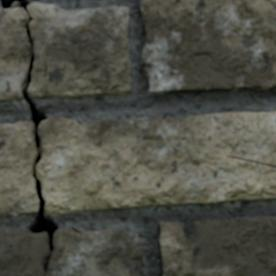brick: (140, 0, 275, 94), (160, 217, 275, 275)
broken_brick: (38, 110, 275, 216), (28, 1, 131, 98), (0, 226, 143, 275), (0, 120, 37, 217), (0, 6, 31, 102)
crack: (0, 0, 59, 274), (225, 154, 275, 168), (71, 227, 82, 233)
